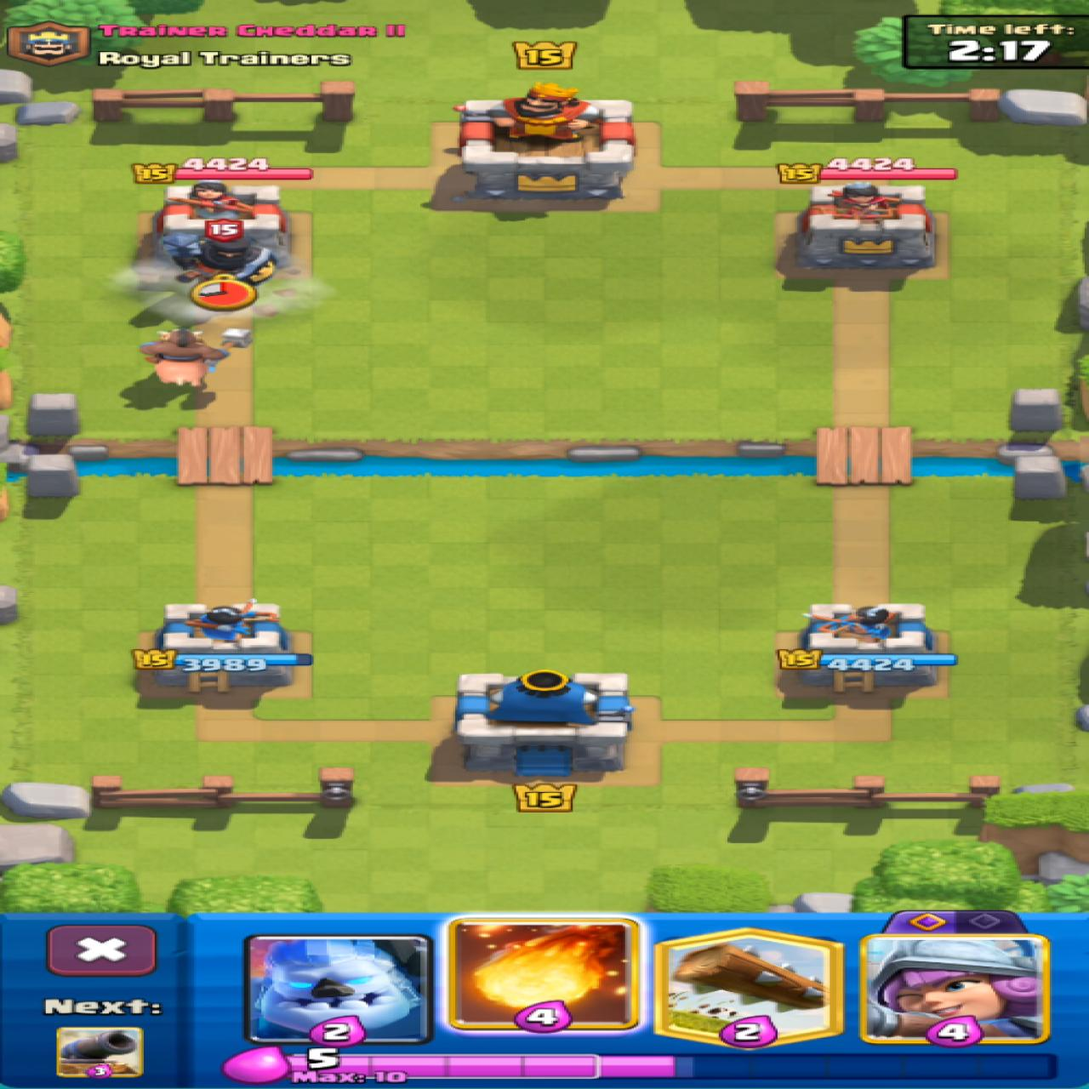Enemy-DarkPrince-Shield: (168, 221, 277, 285)
Enemy-KingTower: (451, 85, 634, 201)
Enemy-PrincessTower: (784, 183, 937, 280), (157, 181, 287, 254)
